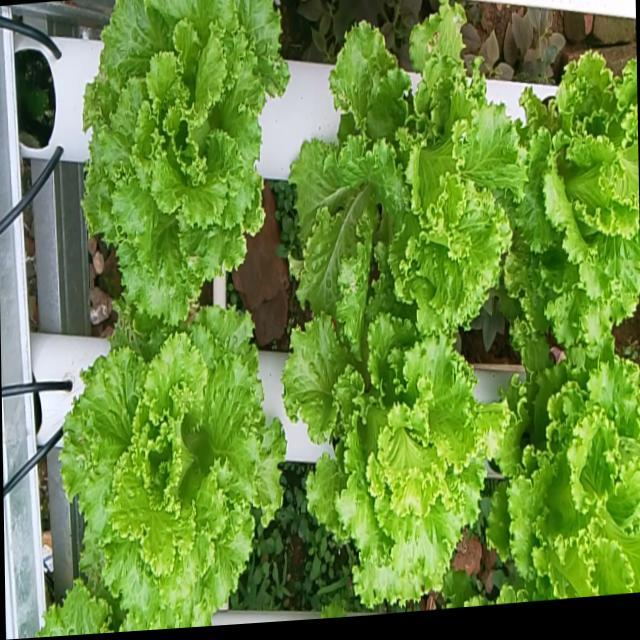Mature: (36, 304, 285, 638), (289, 2, 524, 337), (281, 274, 506, 607), (81, 0, 288, 324), (488, 338, 640, 599), (509, 52, 640, 344)
